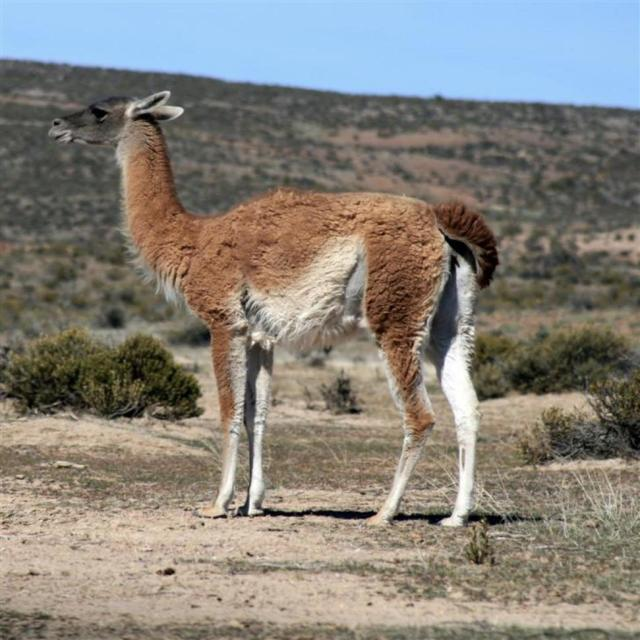alpaca: (48, 86, 498, 528)
